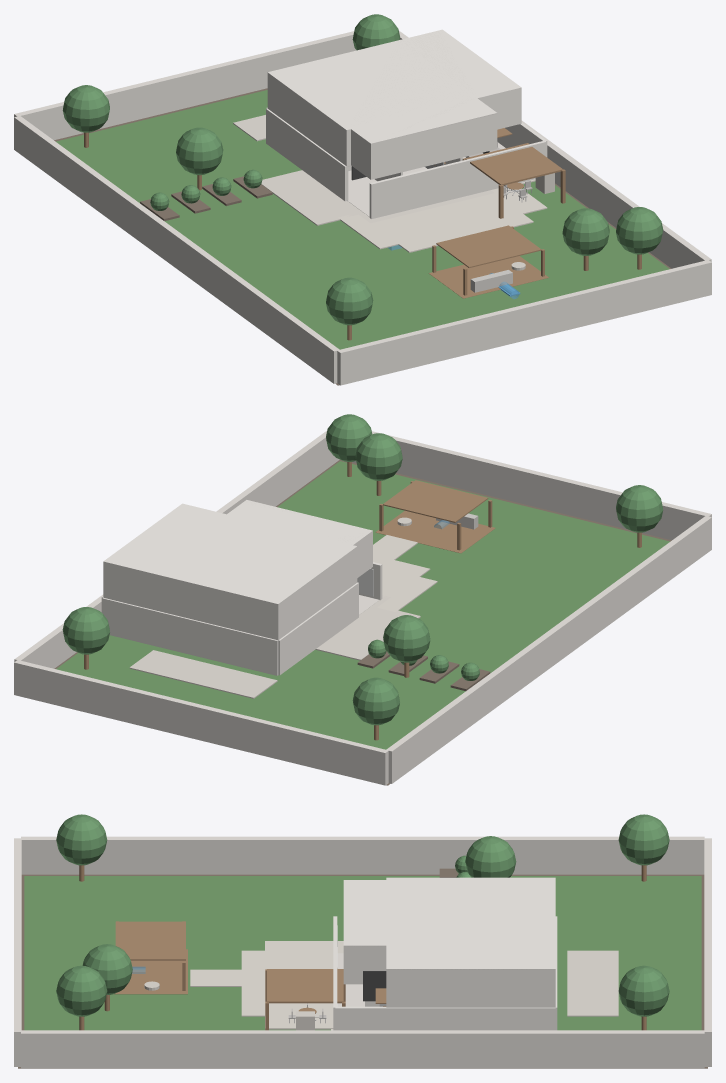
The model's file is modern-villa__JpZWvr7.glb.
3 views of the same model, one above another, from view 1: azimuth 30°, elevation 25°; view 2: azimuth 150°, elevation 25°; view 3: azimuth 270°, elevation 25° (orthographic). The views are drawn at different scales.
Parts seen in each view (by area): view 1: site_ground_lawn, wall_south, upper_volume_main, wall_west, wall_north, upper_volume_south, wall_ground_south, upper_volume_east, pool_court, wall_east, wall_ground_west, terrace_west (+15 smaller); view 2: site_ground_lawn, upper_volume_main, wall_north, wall_west, wall_south, wall_ground_north, upper_volume_east, wall_east, upper_volume_south, terrace_north, wall_ground_west, pavilion_roof (+11 smaller); view 3: site_ground_lawn, wall_east, wall_west, upper_volume_main, upper_volume_east, wall_ground_east, upper_volume_south, terrace_north, pool_court, site_ground, pavilion_roof, patio_roof (+14 smaller).
Part boxes in pixels (x1=…): site_ground_lawn: x1=56, y1=90, x2=669, y2=349; wall_south: x1=337, y1=260, x2=711, y2=385; upper_volume_main: x1=267, y1=40, x2=478, y2=166; wall_west: x1=14, y1=116, x2=339, y2=383; wall_north: x1=14, y1=31, x2=356, y2=140; upper_volume_south: x1=351, y1=95, x2=497, y2=179; wall_ground_south: x1=369, y1=140, x2=546, y2=219; upper_volume_east: x1=399, y1=29, x2=521, y2=129; pool_court: x1=338, y1=187, x2=547, y2=249; wall_east: x1=399, y1=31, x2=711, y2=268; wall_ground_west: x1=266, y1=108, x2=348, y2=201; terrace_west: x1=261, y1=170, x2=357, y2=225; site_ground_lawn: x1=56, y1=461, x2=669, y2=749; upper_volume_main: x1=146, y1=514, x2=357, y2=640; wall_north: x1=14, y1=660, x2=388, y2=785; wall_west: x1=386, y1=516, x2=711, y2=783; wall_south: x1=352, y1=431, x2=711, y2=540; wall_ground_north: x1=102, y1=597, x2=278, y2=675; upper_volume_east: x1=103, y1=503, x2=225, y2=607; wall_east: x1=14, y1=430, x2=339, y2=668; upper_volume_south: x1=223, y1=500, x2=372, y2=577; terrace_north: x1=129, y1=650, x2=277, y2=698; wall_ground_west: x1=278, y1=582, x2=358, y2=675; pavilion_roof: x1=383, y1=480, x2=488, y2=522; site_ground_lawn: x1=24, y1=876, x2=701, y2=1030; wall_east: x1=21, y1=1030, x2=704, y2=1068; wall_west: x1=21, y1=836, x2=704, y2=874; upper_volume_main: x1=386, y1=877, x2=555, y2=946; upper_volume_east: x1=386, y1=946, x2=555, y2=1007; wall_ground_east: x1=335, y1=1006, x2=555, y2=1030; upper_volume_south: x1=343, y1=880, x2=394, y2=984; terrace_north: x1=567, y1=950, x2=618, y2=1016; pool_court: x1=265, y1=941, x2=343, y2=1029; site_ground: x1=18, y1=874, x2=707, y2=1068; pavilion_roof: x1=115, y1=921, x2=185, y2=960; patio_roof: x1=267, y1=969, x2=343, y2=1003.
Bounding box in the file's own units: 36.46 × 7.85 × 54.61.
